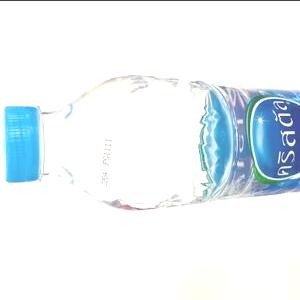bottle: (0, 66, 300, 215)
